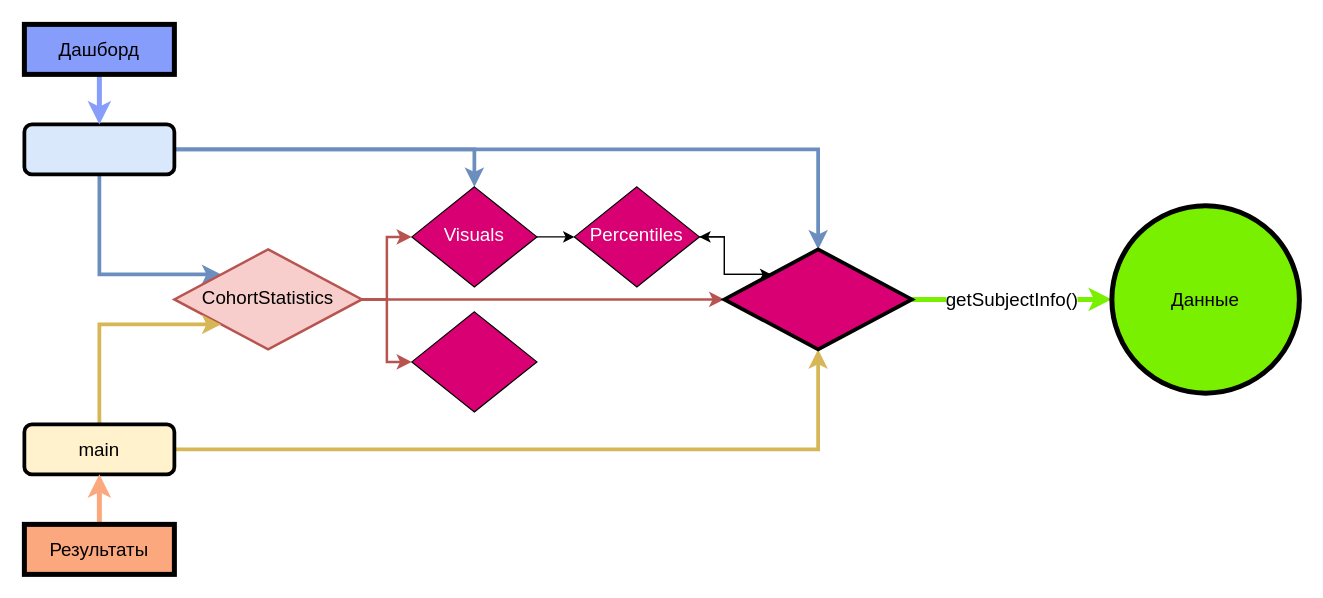
The diagram is 1323 pixels wide and 598 high, and some of its shapes have lost their labels. The shapes that lost their labels are listed below. From the top down, each one's centre as x and y in pixels, then its label:
the point at 99,149: streamlitapp
the point at 817,299: DFServices
the point at 474,361: StatTests
